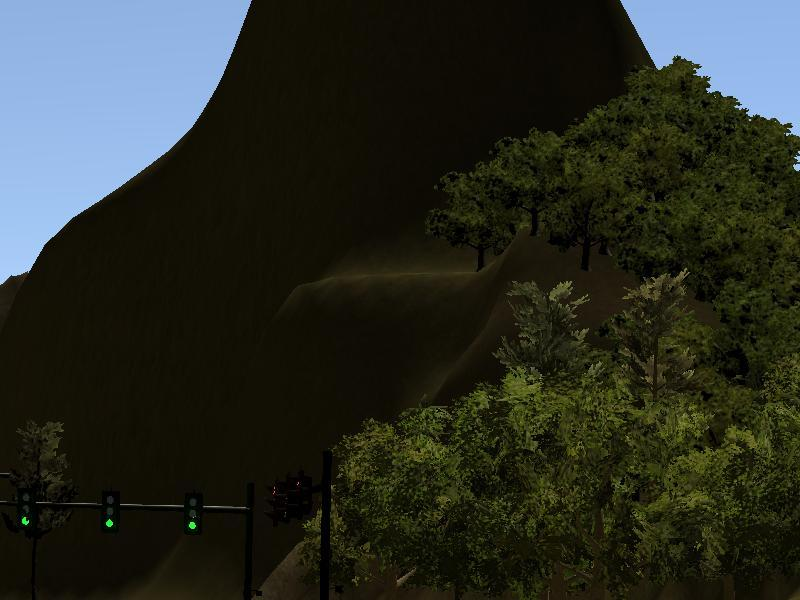Green: (183, 482, 202, 541), (103, 484, 120, 535), (17, 487, 35, 532)
